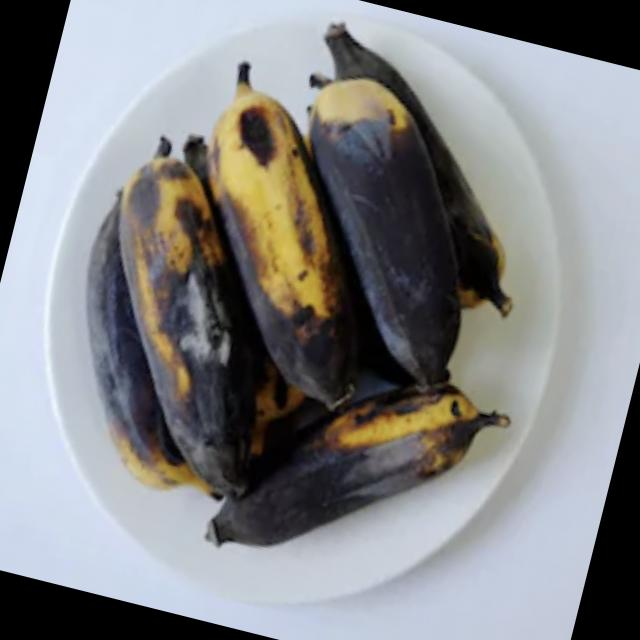rotten-banana: (44, 102, 304, 506), (203, 346, 532, 620), (256, 59, 528, 388), (160, 42, 409, 380)
